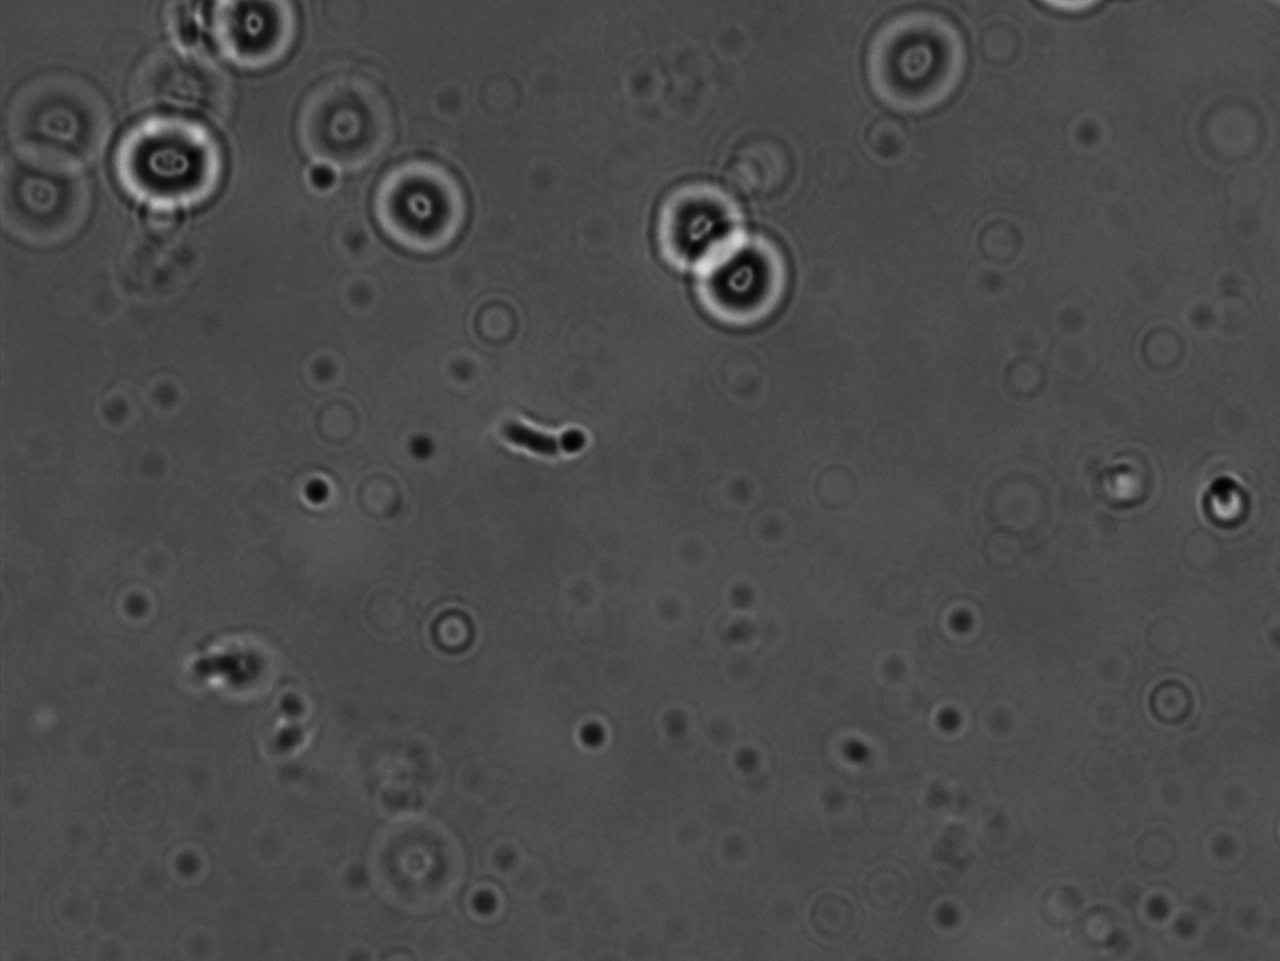depth:-8: (98, 105, 235, 218), (358, 153, 487, 273), (635, 168, 760, 283), (683, 220, 799, 337)
